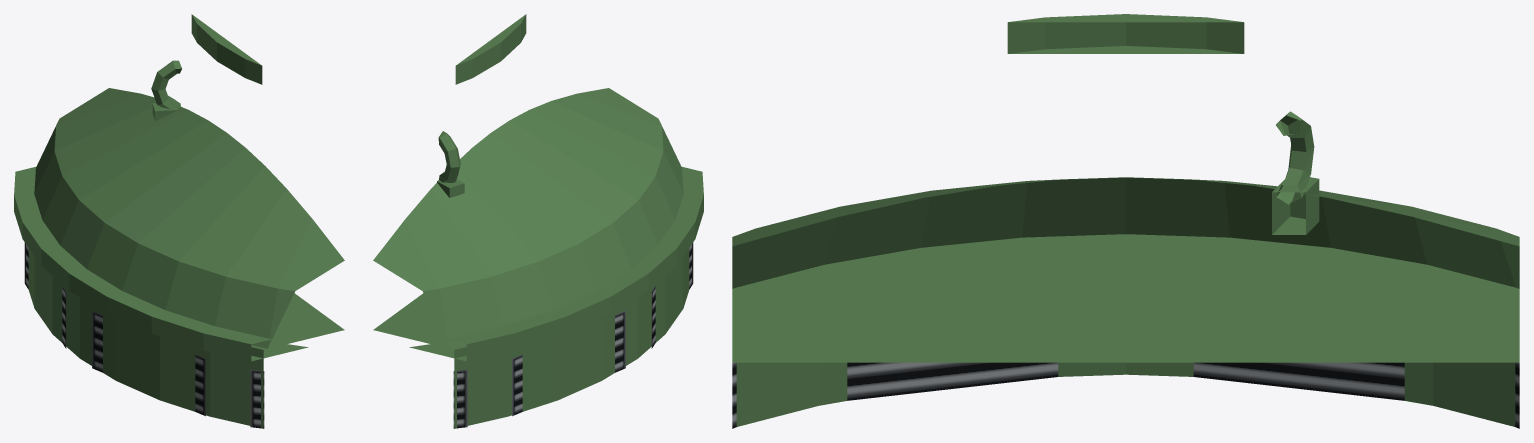
The model's file is cell_66.obj.
3 views of the same model, side by side, from view 1: azimuth 30°, elevation 25°; view 2: azimuth 150°, elevation 25°; view 3: azimuth 270°, elevation 25° (orthographic). The views are drawn at different scales.
Bounding box in the file's own units: 0.3858 × 0.6618 × 1.
